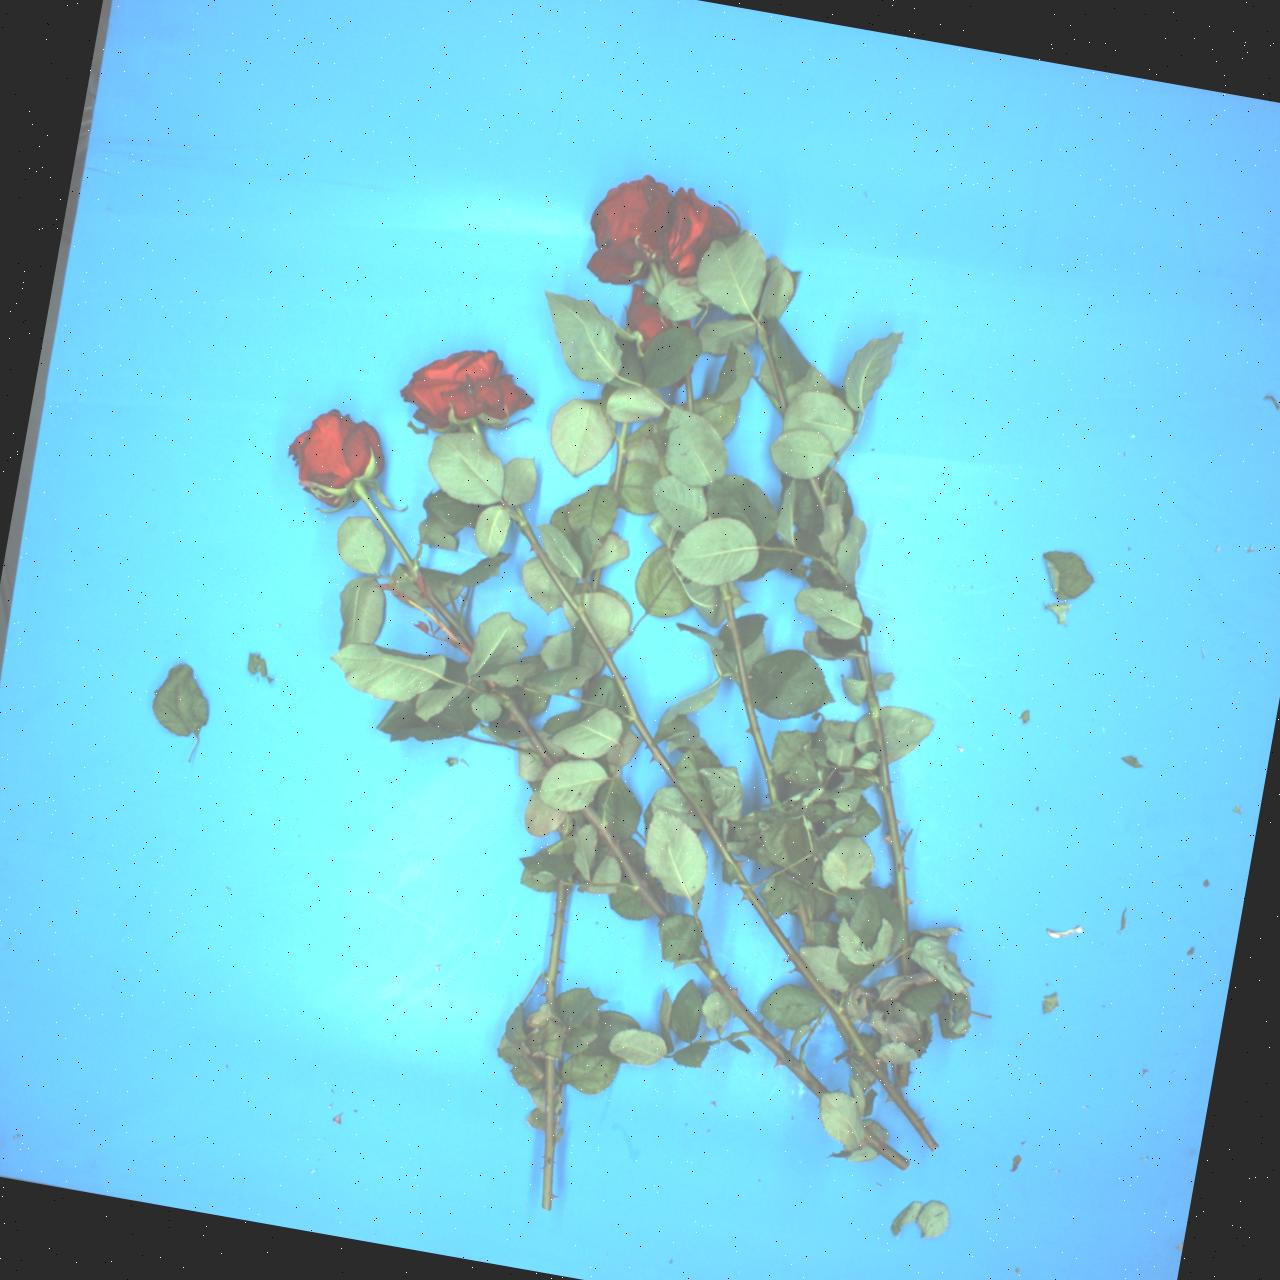Stem: (497, 503, 941, 1163), (692, 953, 832, 1107), (856, 655, 918, 953), (716, 583, 781, 804), (578, 803, 672, 925), (349, 479, 424, 584), (492, 683, 558, 771), (415, 577, 481, 653), (753, 321, 792, 420), (543, 878, 568, 1013), (537, 1060, 559, 1211), (855, 1125, 912, 1173), (610, 422, 629, 499), (825, 1010, 855, 1050), (794, 901, 817, 947), (808, 477, 830, 517), (648, 261, 666, 294), (894, 1061, 911, 1089), (685, 370, 694, 414), (580, 674, 595, 700), (468, 421, 484, 443), (588, 567, 602, 593), (900, 951, 913, 975), (485, 676, 498, 689)
flower: (275, 394, 399, 518), (580, 166, 682, 293), (632, 176, 743, 286), (399, 346, 536, 433), (611, 271, 693, 353)
